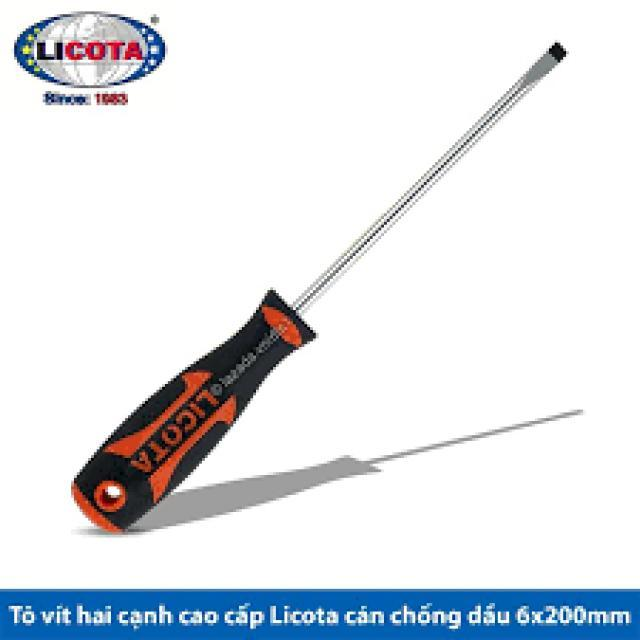screwdriver: (67, 34, 570, 541)
